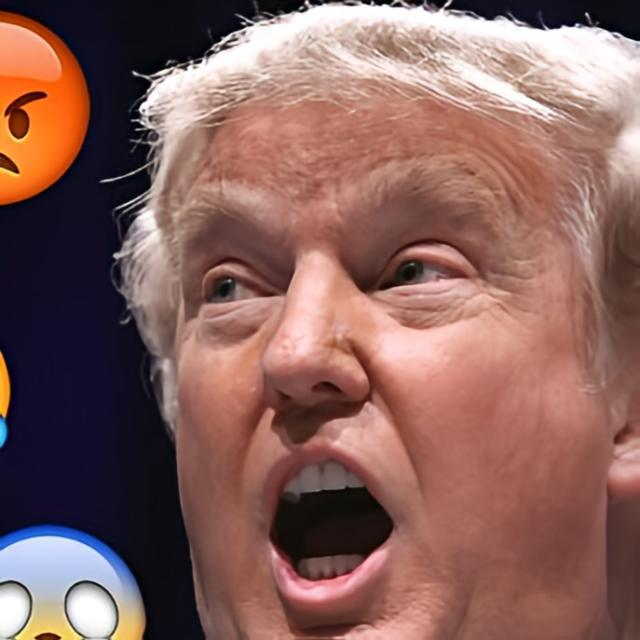anger: (173, 94, 585, 640)
